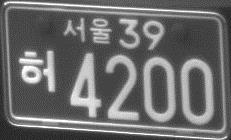0: (143, 54, 179, 126), (179, 57, 215, 125)
2: (105, 52, 141, 123)
3: (117, 15, 140, 49)
4: (68, 51, 103, 118)
9: (140, 18, 164, 50)
서울_O: (62, 16, 112, 45)
허: (18, 49, 59, 95)
